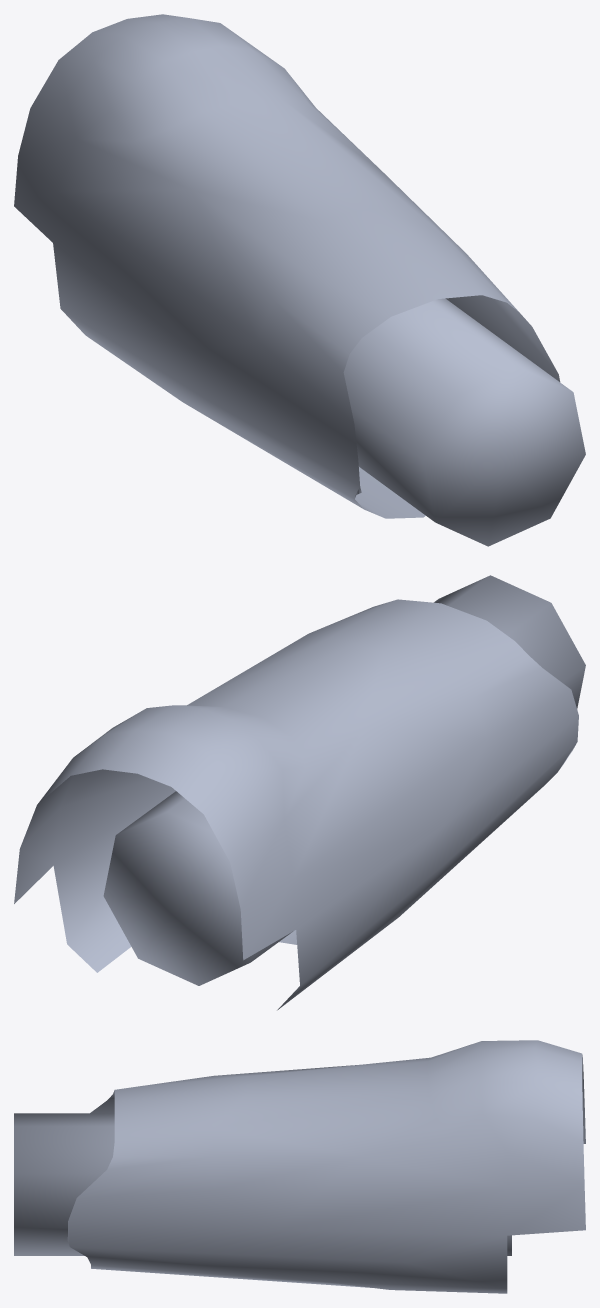
The model's file is l_shank.dae.
The picture shows the model from 3 angles, top to bottom: view 1: azimuth 30°, elevation 25°; view 2: azimuth 150°, elevation 25°; view 3: azimuth 270°, elevation 25°; orthographic projection. The views are drawn at different scales.
Parts seen in each view (by area): view 1: l_shank_mesh; view 2: l_shank_mesh; view 3: l_shank_mesh.
Boxes of the visible parts, x1=… form: l_shank_mesh: x1=14, y1=14, x2=585, y2=546; l_shank_mesh: x1=14, y1=575, x2=585, y2=1010; l_shank_mesh: x1=14, y1=1040, x2=585, y2=1293.
Size of the model in its own units: 0.0961 by 0.2446 by 0.1035.
